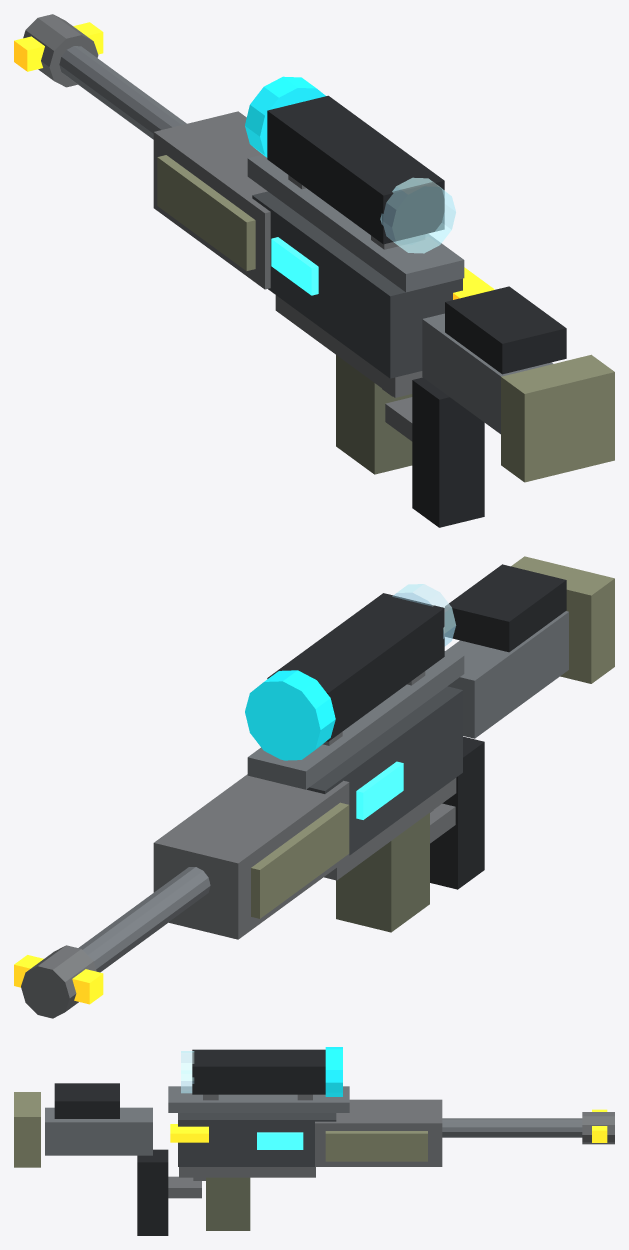
The model's file is sniper.glb.
3 renders of one model, top to bottom at view 1: azimuth 30°, elevation 25°; view 2: azimuth 150°, elevation 25°; view 3: azimuth 270°, elevation 25°, orthographic. The views are drawn at different scales.
Parts seen in each view (by area): view 1: sniper_scope_body, sniper_receiver_core, sniper_stock_pad, sniper_pistol_grip, sniper_long_handguard, sniper_top_rail, sniper_cheek_rest, sniper_magazine, sniper_olive_side_left, sniper_stock_beam, sniper_scope_rear_lens, sniper_heavy_barrel (+6 smaller); view 2: sniper_long_handguard, sniper_scope_body, sniper_receiver_core, sniper_stock_beam, sniper_cheek_rest, sniper_magazine, sniper_top_rail, sniper_scope_front_lens, sniper_stock_pad, sniper_olive_side_left, sniper_pistol_grip, sniper_heavy_barrel (+6 smaller); view 3: sniper_receiver_core, sniper_scope_body, sniper_long_handguard, sniper_stock_beam, sniper_top_rail, sniper_olive_side_right, sniper_heavy_barrel, sniper_pistol_grip, sniper_magazine, sniper_cheek_rest, sniper_stock_pad, sniper_receiver_lower (+6 smaller).
Part boxes in pixels (x1,y1,x2,y2): sniper_scope_body: [267, 95, 444, 244]; sniper_receiver_core: [252, 191, 462, 378]; sniper_stock_pad: [501, 354, 614, 482]; sniper_pistol_grip: [412, 377, 484, 527]; sniper_long_handguard: [153, 111, 270, 289]; sniper_top_rail: [247, 154, 464, 292]; sniper_cheek_rest: [445, 286, 566, 374]; sniper_magazine: [336, 355, 412, 474]; sniper_olive_side_left: [157, 155, 255, 271]; sniper_stock_beam: [422, 313, 553, 434]; sniper_scope_rear_lens: [380, 177, 455, 253]; sniper_heavy_barrel: [59, 46, 186, 139]; sniper_long_handguard: [153, 774, 349, 939]; sniper_scope_body: [267, 593, 444, 741]; sniper_receiver_core: [306, 686, 462, 855]; sniper_stock_beam: [446, 611, 568, 738]; sniper_cheek_rest: [445, 564, 566, 652]; sniper_magazine: [336, 813, 429, 932]; sniper_top_rail: [247, 651, 464, 789]; sniper_scope_front_lens: [245, 670, 335, 760]; sniper_stock_pad: [511, 556, 614, 683]; sniper_olive_side_left: [251, 802, 349, 918]; sniper_pistol_grip: [430, 736, 484, 889]; sniper_heavy_barrel: [78, 867, 210, 972]; sniper_receiver_core: [178, 1113, 336, 1166]; sniper_scope_body: [192, 1049, 325, 1094]; sniper_long_handguard: [315, 1099, 442, 1166]; sniper_stock_beam: [45, 1107, 152, 1155]; sniper_top_rail: [168, 1086, 349, 1112]; sniper_olive_side_right: [325, 1131, 427, 1161]; sniper_heavy_barrel: [442, 1118, 582, 1137]; sniper_pistol_grip: [137, 1149, 168, 1235]; sniper_magazine: [206, 1177, 250, 1230]; sniper_cheek_rest: [54, 1083, 119, 1118]; sniper_stock_pad: [14, 1092, 40, 1167]; sniper_receiver_lower: [179, 1167, 315, 1177].
Bounding box in the file's own units: 0.193 × 0.515 × 1.56.
